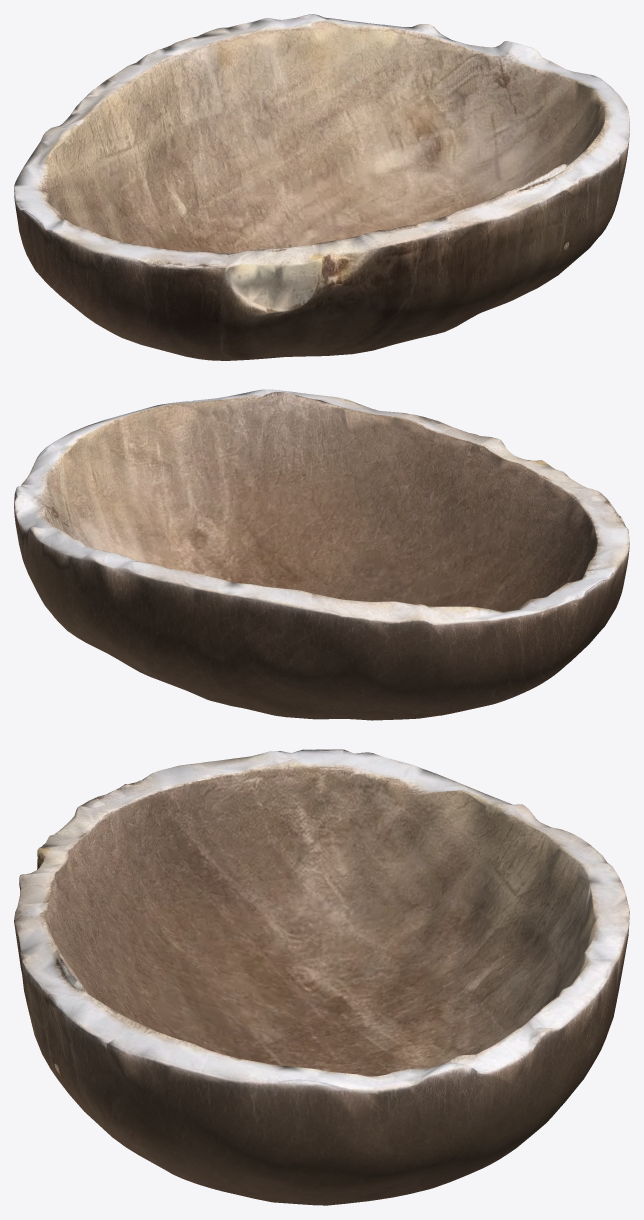
The model's file is orn-01-decorative-bowl-meshy.glb.
3 views of the same model, one above another, from view 1: azimuth 30°, elevation 25°; view 2: azimuth 150°, elevation 25°; view 3: azimuth 270°, elevation 25° (orthographic). The views are drawn at different scales.
Visible parts, largest first — view 1: mesh_node; view 2: mesh_node; view 3: mesh_node.
Boxes of the visible parts, bbox=[...] form: mesh_node: bbox=[14, 14, 629, 360]; mesh_node: bbox=[14, 389, 629, 720]; mesh_node: bbox=[14, 749, 629, 1205].
Bounding box in the file's own units: 1.9 × 0.6574 × 1.46.
1 material, 1 textured.
